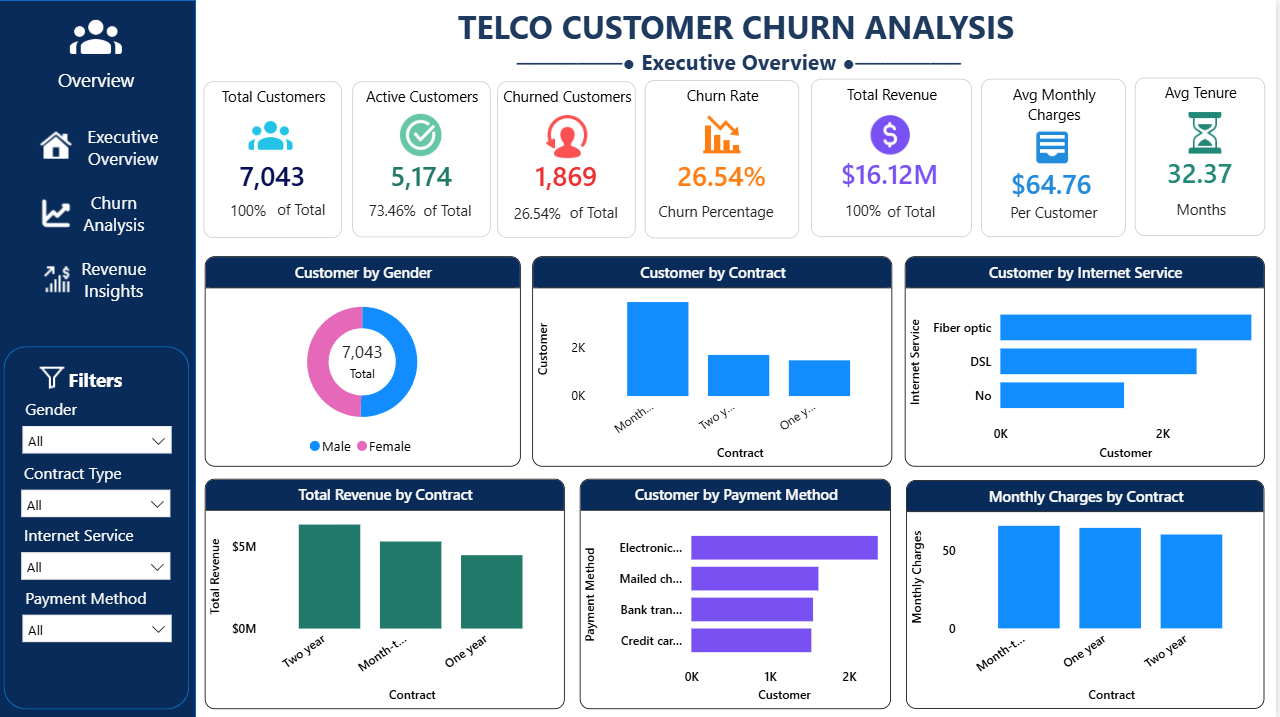

Layout of this report page (visuals, bound fields, positions):
{"tool":"powerbi","page":{"name":"Executive Overview","canvas":[1280,720],"ordinal":0},"visuals":[{"type":"shape","box":[0,0,200,720],"z":0},{"type":"image","box":[55.7,11.4,87.1,51.4],"z":1000},{"type":"actionButton","box":[7.1,114.3,185.7,65.7],"z":2000},{"type":"actionButton","box":[7.2,179.8,185.8,66.4],"z":3000},{"type":"actionButton","box":[7.2,246.1,185.8,66.4],"z":4000},{"type":"textbox","box":[0,62.9,200,37.1],"z":5000},{"type":"textbox","box":[200.3,0,1079.8,80.8],"z":6000},{"type":"cardVisual","title":"Total Customers","fields":{"Data":["Measure_.Total Customers"]},"box":[207.5,80.8,138.7,156.8],"z":7000},{"type":"image","box":[243.7,113.4,61.5,43.4],"z":8000},{"type":"textbox","box":[276.2,193.8,61.2,32.5],"z":10000},{"type":"cardVisual","title":"Active Customers","fields":{"Data":["Measure_.Active Customers"]},"box":[355.9,80.8,138,156],"z":11000},{"type":"cardVisual","title":"Churned Customers","fields":{"Data":["Measure_.Churned Customers"]},"box":[501.4,81.4,138.6,157.1],"z":12000},{"type":"cardVisual","title":"Churn Rate","fields":{"Data":["Measure_.Churn Rate"]},"box":[649.1,79.6,154.4,158],"z":13000},{"type":"cardVisual","title":"Total Revenue","fields":{"Data":["Measure_.Total Revenue"]},"box":[815.6,78.4,160.5,158],"z":14000},{"type":"cardVisual","title":"Avg Monthly Charges","fields":{"Data":["Measure_.Average Monthly Charges"]},"box":[984.5,78.4,144.8,158],"z":15000},{"type":"cardVisual","title":"Avg Tenure","fields":{"Data":["Measure_.Average Tenure"]},"box":[1138.9,77.2,130.3,158],"z":16000},{"type":"image","box":[396.9,113.4,54.3,42.2],"z":17000},{"type":"donutChart","title":"Customer by Gender","fields":{"Category":["public tcc.gender"],"Y":["CountNonNull(public tcc.customer_id)"]},"box":[208.6,255.7,315.7,210],"z":18000},{"type":"textbox","box":[422.5,195,62.5,31.2],"z":20000},{"type":"image","box":[535.7,114.6,70,43.4],"z":21000},{"type":"textbox","box":[657.5,196.2,135,33.8],"z":23000},{"type":"textbox","box":[568.8,197.5,71.2,32.5],"z":24000},{"type":"image","box":[1173.9,111,70,43.4],"z":25000},{"type":"image","box":[1026.2,126.2,60,42.5],"z":26000},{"type":"image","box":[856.6,111,76,47.1],"z":27000},{"type":"image","box":[687.7,109.8,77.2,49.5],"z":28000},{"type":"textbox","box":[1001.2,197.5,108.8,30],"z":29000},{"type":"textbox","box":[1158.8,193.8,85,30],"z":30000},{"type":"cardVisual","fields":{"Data":["Measure_.Customer %"]},"box":[825,190,86.2,38.8],"z":31000},{"type":"textbox","box":[886.7,196.6,72.4,33.8],"z":32000},{"type":"cardVisual","fields":{"Data":["Measure_.Total Customers"]},"box":[318.6,320,95.7,81.4],"z":33000},{"type":"columnChart","title":"Customer by Contract","fields":{"Category":["public tcc.contract"],"Y":["CountNonNull(public tcc.customer_id)"]},"box":[535.7,255.7,360,210],"z":34000},{"type":"barChart","title":"Customer by Internet Service","fields":{"Y":["CountNonNull(public tcc.customer_id)"],"Category":["public tcc.internet_service"]},"box":[908.6,255.7,360,210],"z":35000},{"type":"clusteredColumnChart","title":"Total Revenue by Contract","fields":{"Y":["Measure_.Total Revenue"],"Category":["public tcc.contract"]},"box":[208.6,478.6,360,230],"z":36000},{"type":"clusteredColumnChart","title":"Monthly Charges by Contract","fields":{"Category":["public tcc.contract"],"Y":["Avg(public tcc.monthly_charges)"]},"box":[910,480,358.6,228.6],"z":37000},{"type":"barChart","title":"Customer by Payment Method","fields":{"Y":["CountNonNull(public tcc.customer_id)"],"Category":["public tcc.payment_method"]},"box":[584.3,478.6,311.4,230],"z":38000},{"type":"shape","box":[7.2,346.2,185.8,363.1],"z":39000},{"type":"image","box":[30,362.9,51.4,31.4],"z":40000},{"type":"textbox","box":[67.1,362.9,90,38.6],"z":41000},{"type":"slicer","fields":{"Values":["public tcc.gender"]},"box":[15.7,392.1,168.9,88.1],"z":42000},{"type":"slicer","fields":{"Values":["public tcc.contract"]},"box":[14.5,456,168.9,88.1],"z":43000},{"type":"slicer","fields":{"Values":["public tcc.internet_service"]},"box":[14.5,518.8,168.9,88.1],"z":44000},{"type":"slicer","fields":{"Values":["public tcc.payment_method"]},"box":[15.7,581.5,168.9,88.1],"z":45000},{"type":"cardVisual","fields":{"Data":["Measure_.Churn Rate %"]},"box":[493.8,185,97.5,53.8],"z":45001},{"type":"cardVisual","fields":{"Data":["Measure_.Active Customer %"]},"box":[348.8,182.5,97.5,53.8],"z":45002},{"type":"cardVisual","fields":{"Data":["Measure_.Customer %"]},"box":[210,182.5,97.5,53.8],"z":45003}]}

Visuals, with their boxes in screenshot pixels (x1, y1, x2, y2), scaled from the page's 1280x720 canvas onto the 1280x717 screenshot:
shape: l=0, t=0, r=200, b=716
image: l=56, t=11, r=143, b=63
actionButton: l=7, t=114, r=193, b=179
actionButton: l=7, t=179, r=193, b=245
actionButton: l=7, t=245, r=193, b=311
textbox: l=0, t=63, r=200, b=100
textbox: l=200, t=0, r=1279, b=80
"Total Customers" cardVisual: l=208, t=80, r=346, b=237
image: l=244, t=113, r=305, b=156
textbox: l=276, t=193, r=337, b=225
"Active Customers" cardVisual: l=356, t=80, r=494, b=236
"Churned Customers" cardVisual: l=501, t=81, r=640, b=238
"Churn Rate" cardVisual: l=649, t=79, r=804, b=237
"Total Revenue" cardVisual: l=816, t=78, r=976, b=235
"Avg Monthly Charges" cardVisual: l=984, t=78, r=1129, b=235
"Avg Tenure" cardVisual: l=1139, t=77, r=1269, b=234
image: l=397, t=113, r=451, b=155
"Customer by Gender" donutChart: l=209, t=255, r=524, b=464
textbox: l=422, t=194, r=485, b=225
image: l=536, t=114, r=606, b=157
textbox: l=658, t=195, r=792, b=229
textbox: l=569, t=197, r=640, b=229
image: l=1174, t=111, r=1244, b=154
image: l=1026, t=126, r=1086, b=168
image: l=857, t=111, r=933, b=157
image: l=688, t=109, r=765, b=159
textbox: l=1001, t=197, r=1110, b=227
textbox: l=1159, t=193, r=1244, b=223
cardVisual - Measure_.Customer %: l=825, t=189, r=911, b=228
textbox: l=887, t=196, r=959, b=229
cardVisual - Measure_.Total Customers: l=319, t=319, r=414, b=400
"Customer by Contract" columnChart: l=536, t=255, r=896, b=464
"Customer by Internet Service" barChart: l=909, t=255, r=1269, b=464
"Total Revenue by Contract" clusteredColumnChart: l=209, t=477, r=569, b=706
"Monthly Charges by Contract" clusteredColumnChart: l=910, t=478, r=1269, b=706
"Customer by Payment Method" barChart: l=584, t=477, r=896, b=706
shape: l=7, t=345, r=193, b=706
image: l=30, t=361, r=81, b=393
textbox: l=67, t=361, r=157, b=400
slicer - public tcc.gender: l=16, t=390, r=185, b=478
slicer - public tcc.contract: l=14, t=454, r=183, b=542
slicer - public tcc.internet_service: l=14, t=517, r=183, b=604
slicer - public tcc.payment_method: l=16, t=579, r=185, b=667
cardVisual - Measure_.Churn Rate %: l=494, t=184, r=591, b=238
cardVisual - Measure_.Active Customer %: l=349, t=182, r=446, b=235
cardVisual - Measure_.Customer %: l=210, t=182, r=308, b=235
